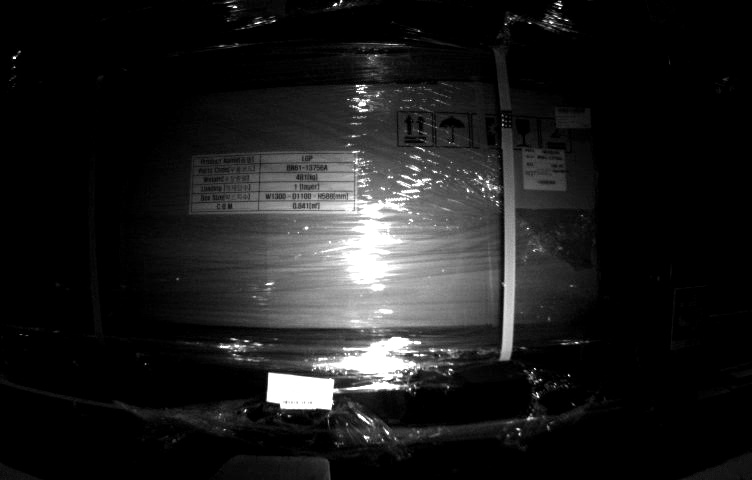True Barcode: (522, 146, 567, 191)
